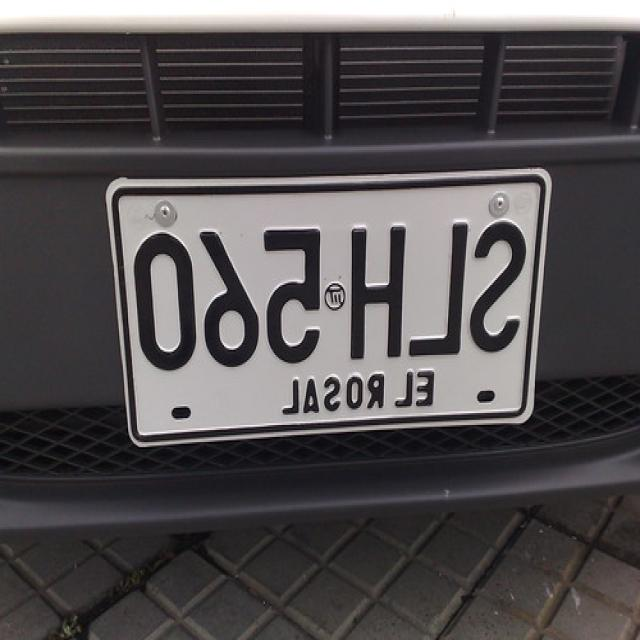placas: (123, 200, 533, 374)
